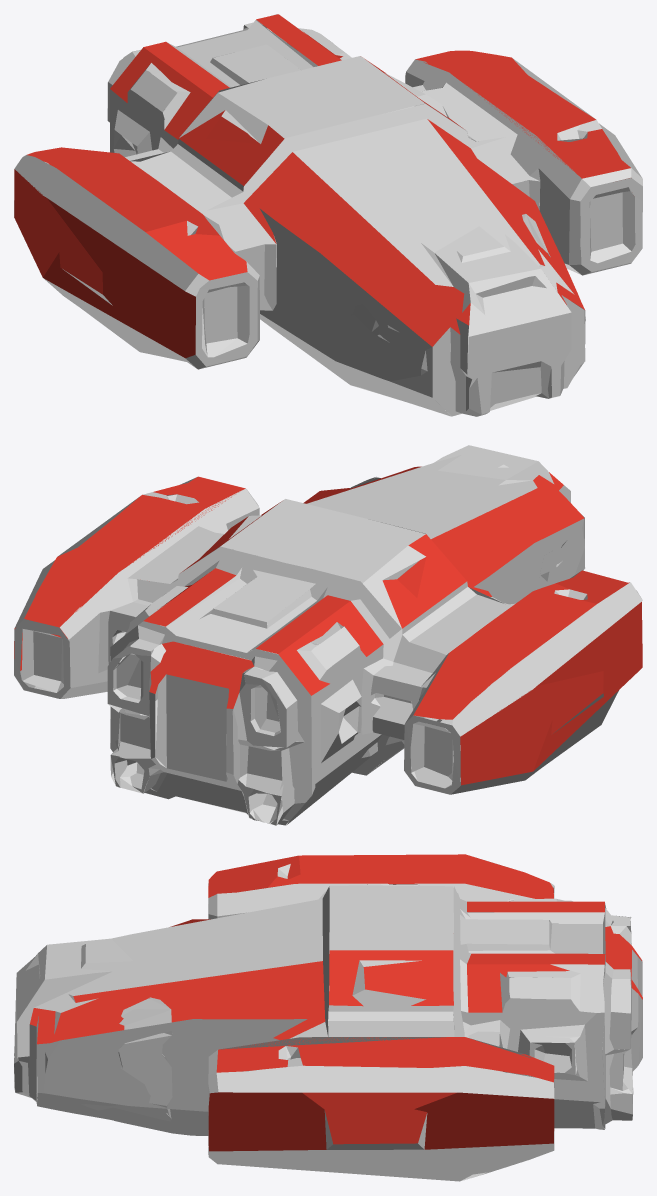
Rendered from bastion_t1.glb.
3 views of the same model, one above another, from view 1: azimuth 30°, elevation 25°; view 2: azimuth 150°, elevation 25°; view 3: azimuth 270°, elevation 25° (orthographic). The views are drawn at different scales.
Visible parts, largest first — view 1: Spaceship; view 2: Spaceship; view 3: Spaceship.
Part boxes in pixels (bbox=[...]): Spaceship: bbox=[14, 14, 642, 416]; Spaceship: bbox=[14, 445, 642, 825]; Spaceship: bbox=[14, 854, 642, 1181].
Size of the model in its own units: 32.43 by 11.99 by 37.03.
